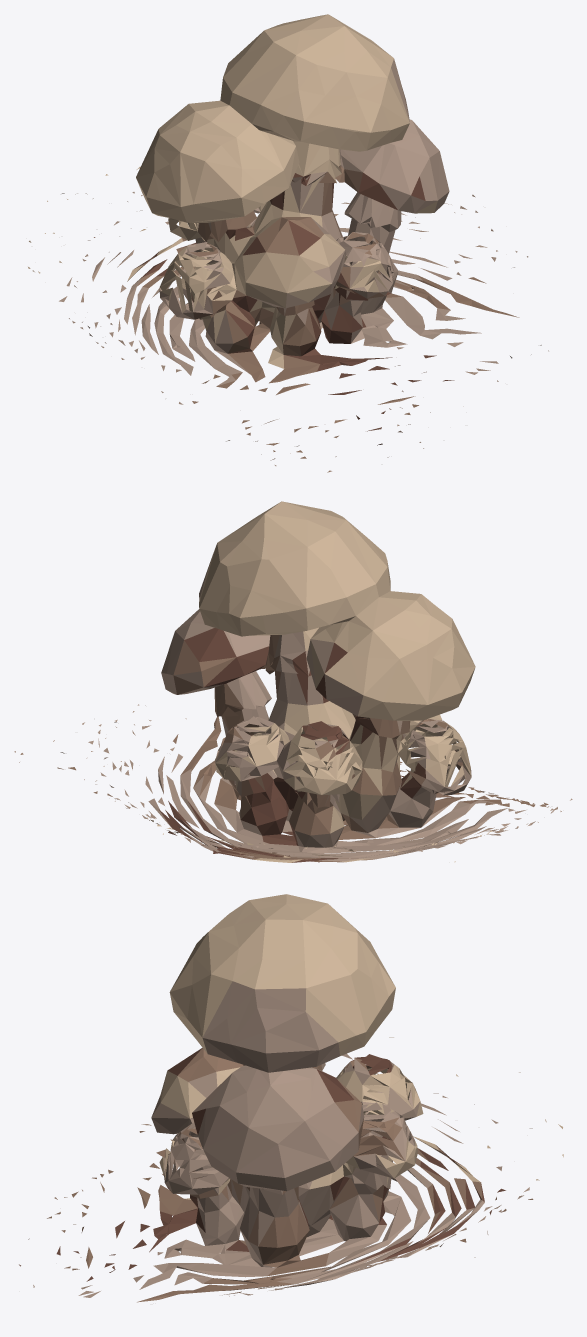
The model's file is mushroom.glb.
3 views of the same model, one above another, from view 1: azimuth 30°, elevation 25°; view 2: azimuth 150°, elevation 25°; view 3: azimuth 270°, elevation 25° (orthographic). The views are drawn at different scales.
Parts seen in each view (by area): view 1: geometry_0; view 2: geometry_0; view 3: geometry_0.
Boxes of the visible parts, x1,y1,x2,y2 form: geometry_0: [28, 14, 548, 472]; geometry_0: [14, 501, 572, 862]; geometry_0: [19, 894, 563, 1302].
Bounding box in the file's own units: 1.98 × 1.5 × 1.97.
